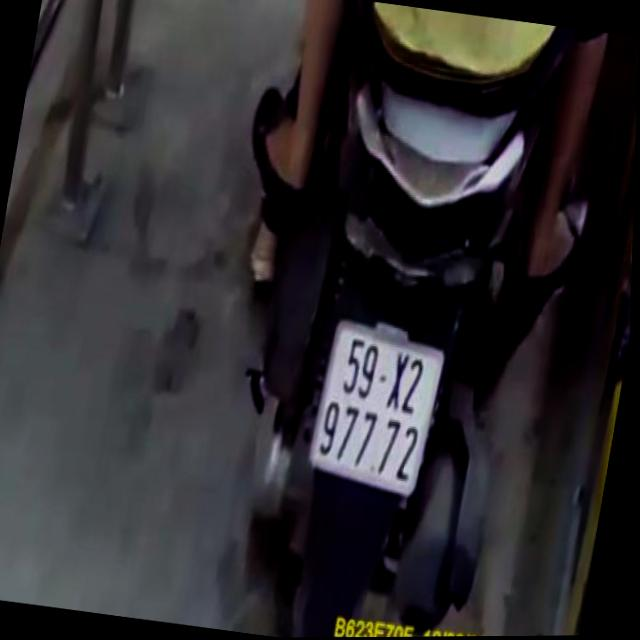motorcycle: (226, 17, 581, 638)
plate: (298, 311, 458, 506)
